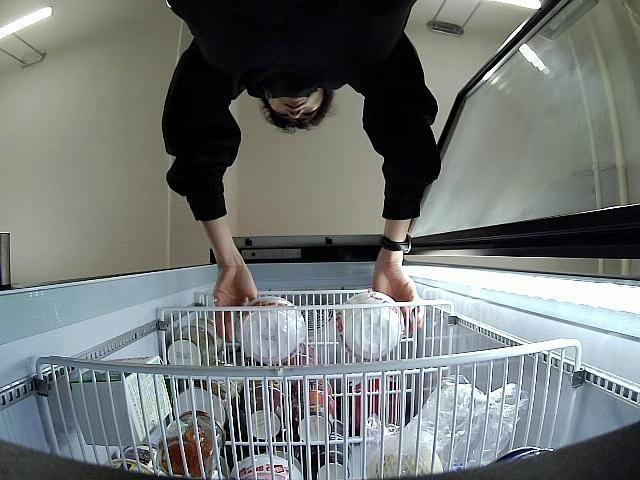09_yukGaeJang: (234, 297, 306, 362), (338, 292, 403, 358)
